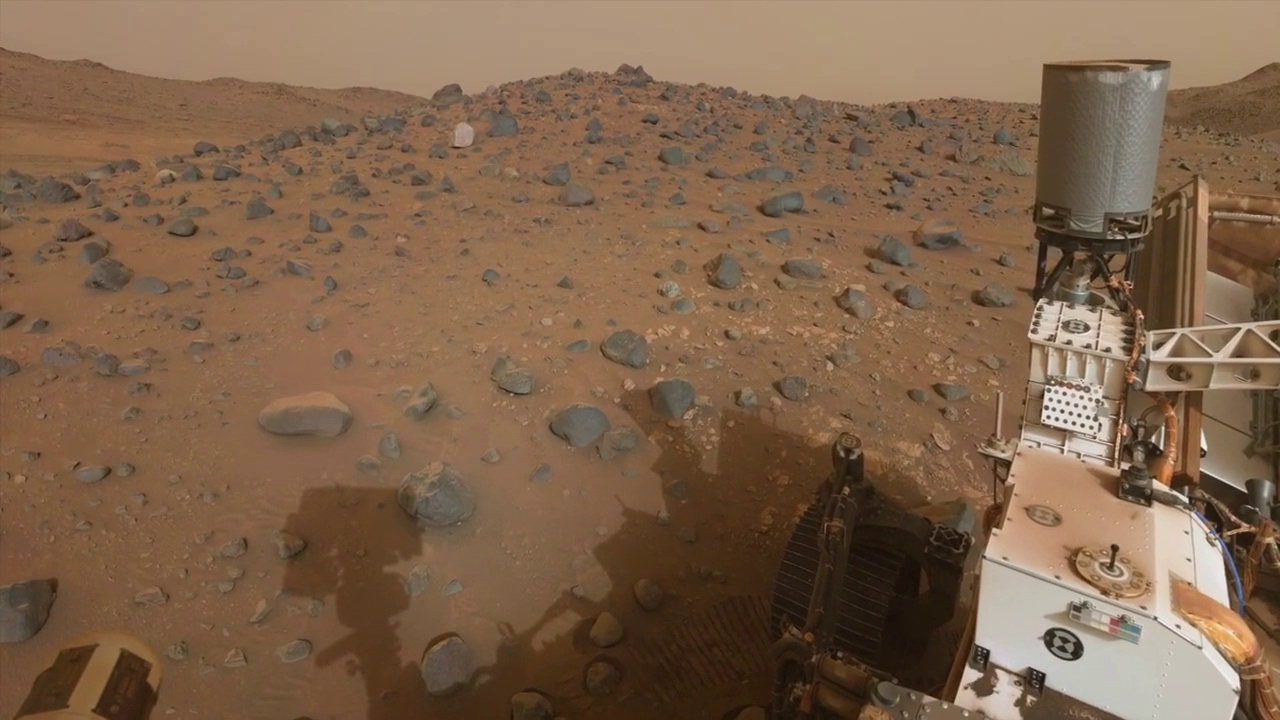rock: (863, 236, 915, 276), (600, 336, 646, 369), (703, 255, 743, 290), (755, 192, 808, 218), (771, 377, 813, 404), (1101, 544, 1130, 581), (968, 187, 1002, 218), (882, 284, 922, 309), (969, 287, 1014, 308), (832, 288, 862, 318), (550, 190, 595, 207), (930, 383, 970, 402)
